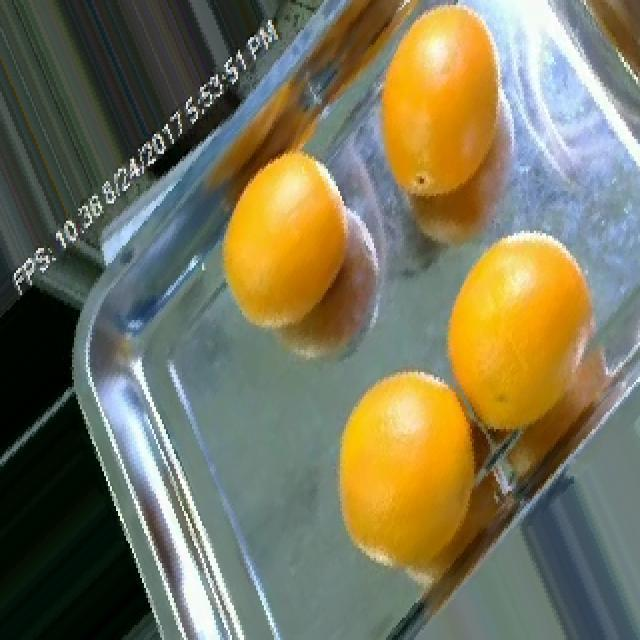Orange: (446, 228, 592, 432), (338, 370, 474, 568), (378, 2, 500, 196), (220, 148, 348, 328)
